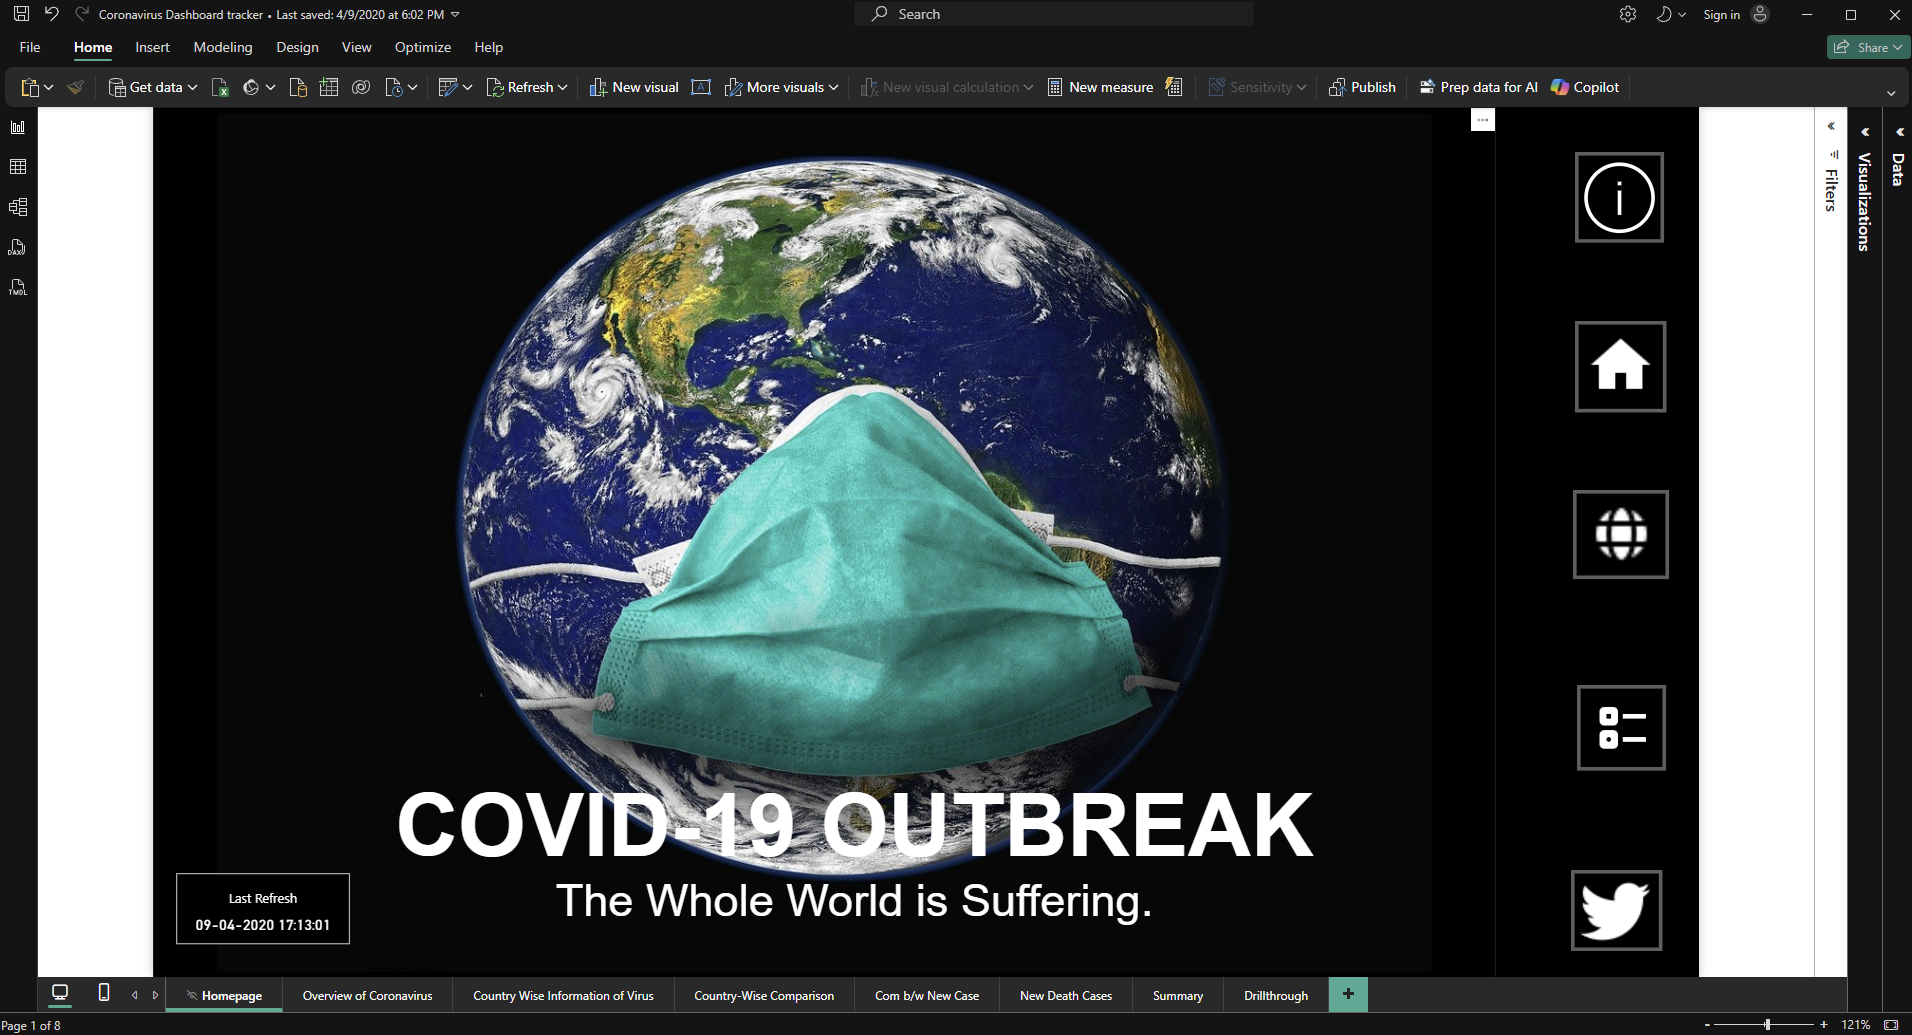

Layout of this report page (visuals, bound fields, positions):
{"tool":"powerbi","page":{"name":"Homepage","canvas":[1280,720],"ordinal":0},"visuals":[{"type":"image","box":[0,0,1111.4,720.9],"z":0},{"type":"actionButton","box":[1176.9,37.6,73.7,75.2],"z":1000},{"type":"textbox","box":[191.1,548.4,778.7,150.2],"z":2000},{"type":"actionButton","box":[1176.8,177.2,75.7,75.7],"z":3000},{"type":"image","box":[1182.7,177.8,63.6,70.8],"z":4000},{"type":"actionButton","box":[1175.4,316.6,79.5,73.7],"z":5000},{"type":"actionButton","box":[1178.3,478.6,73.7,70.8],"z":6000},{"type":"actionButton","box":[1173.3,631.4,75.7,67.1],"z":7000},{"type":"image","box":[1184.1,322.4,62.2,60.7],"z":8000},{"type":"image","box":[1184.1,485.8,63.6,56.4],"z":9000},{"type":"image","box":[1171.1,630.4,78.1,68],"z":10000},{"type":"cardVisual","fields":{"Data":["Max(Refresh.Refresh)"]},"box":[14.2,629.3,154.7,69.3],"z":11000}]}

Visuals, with their boxes on the page's 1280x720 design canvas (x1, y1, x2, y2). These are canvas units, not pixel positions in the 1912x1035 screenshot, which may show the page scaled, cropped or inside an application window:
image: locate(0, 0, 1111, 721)
actionButton: locate(1177, 38, 1251, 113)
textbox: locate(191, 548, 970, 699)
actionButton: locate(1177, 177, 1252, 253)
image: locate(1183, 178, 1246, 249)
actionButton: locate(1175, 317, 1255, 390)
actionButton: locate(1178, 479, 1252, 549)
actionButton: locate(1173, 631, 1249, 698)
image: locate(1184, 322, 1246, 383)
image: locate(1184, 486, 1248, 542)
image: locate(1171, 630, 1249, 698)
cardVisual - Max(Refresh.Refresh): locate(14, 629, 169, 699)
